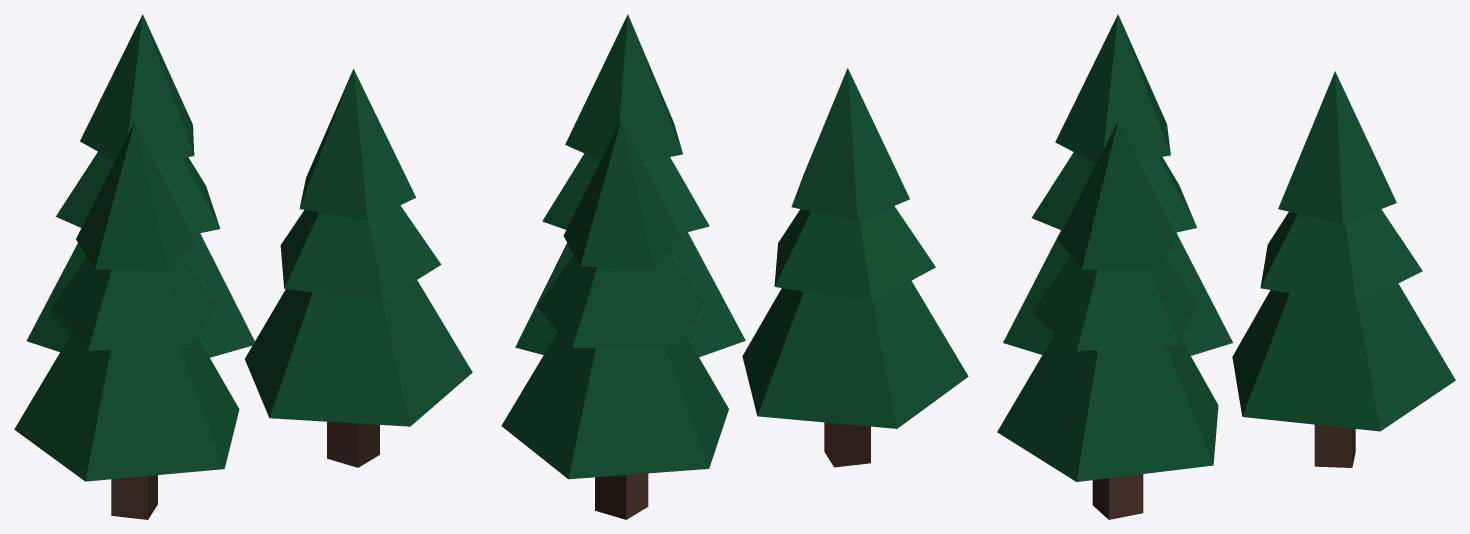
The model's file is TB_Env_TreeTB_A_Med.FBX.
3 views of the same model, side by side, from view 1: azimuth 30°, elevation 25°; view 2: azimuth 150°, elevation 25°; view 3: azimuth 270°, elevation 25° (orthographic).
Visible parts, largest first — view 1: TB_Env_TreeTB_A_Med; view 2: TB_Env_TreeTB_A_Med; view 3: TB_Env_TreeTB_A_Med.
Boxes of the visible parts, x1,y1,x2,y2 form: TB_Env_TreeTB_A_Med: (14, 14, 472, 519); TB_Env_TreeTB_A_Med: (501, 14, 968, 519); TB_Env_TreeTB_A_Med: (997, 14, 1455, 519).
Bounding box in the file's own units: 6.22 × 5.74 × 6.14.
